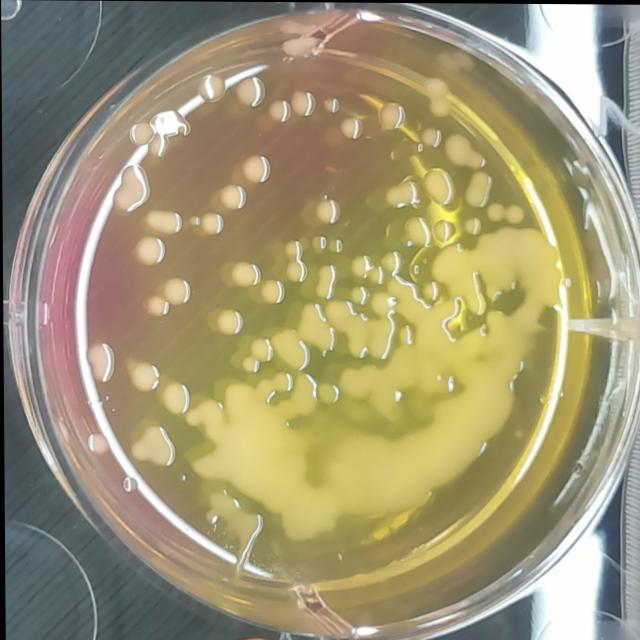StaphyloPositive: (106, 162, 154, 216), (128, 423, 177, 467), (83, 338, 120, 384), (127, 232, 166, 270), (459, 167, 494, 209), (239, 334, 275, 374), (421, 167, 457, 207), (346, 252, 386, 286), (279, 236, 307, 284), (158, 380, 192, 418), (234, 72, 269, 108), (127, 359, 161, 396), (304, 195, 340, 229), (239, 154, 275, 187), (382, 177, 419, 209), (194, 71, 228, 105), (226, 260, 263, 291), (146, 205, 183, 235), (256, 369, 294, 397), (217, 181, 250, 213), (400, 214, 430, 248), (313, 261, 338, 300), (163, 277, 193, 309), (287, 87, 316, 119), (376, 100, 406, 130), (335, 113, 364, 143), (259, 278, 287, 308), (215, 309, 243, 337), (199, 207, 225, 237), (418, 123, 444, 152), (430, 218, 457, 245), (144, 292, 171, 319), (265, 97, 291, 125), (380, 249, 405, 276), (315, 378, 339, 404), (418, 278, 440, 303), (461, 215, 483, 237), (394, 323, 415, 345), (350, 284, 370, 307), (327, 235, 345, 253), (308, 232, 326, 250)
